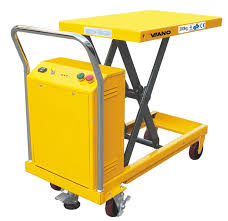Scissor Lift: (9, 9, 223, 216)
